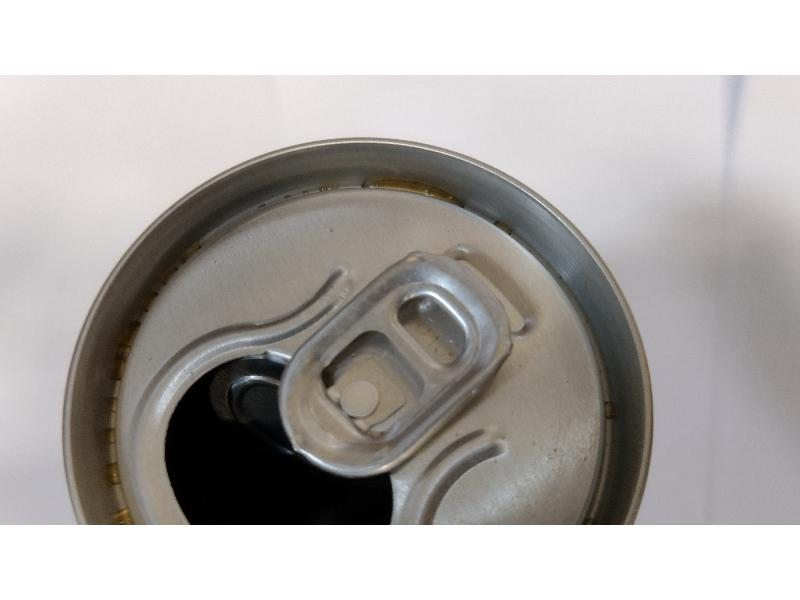can: (56, 128, 653, 523)
